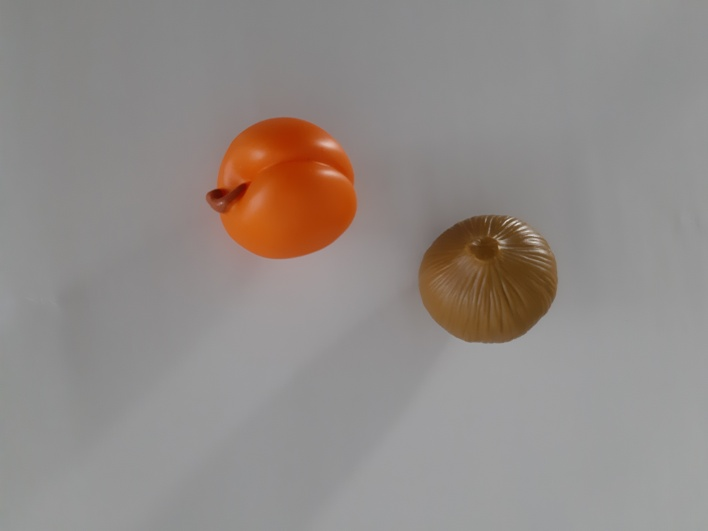apricot: (202, 106, 365, 273)
onion: (406, 199, 578, 356)
